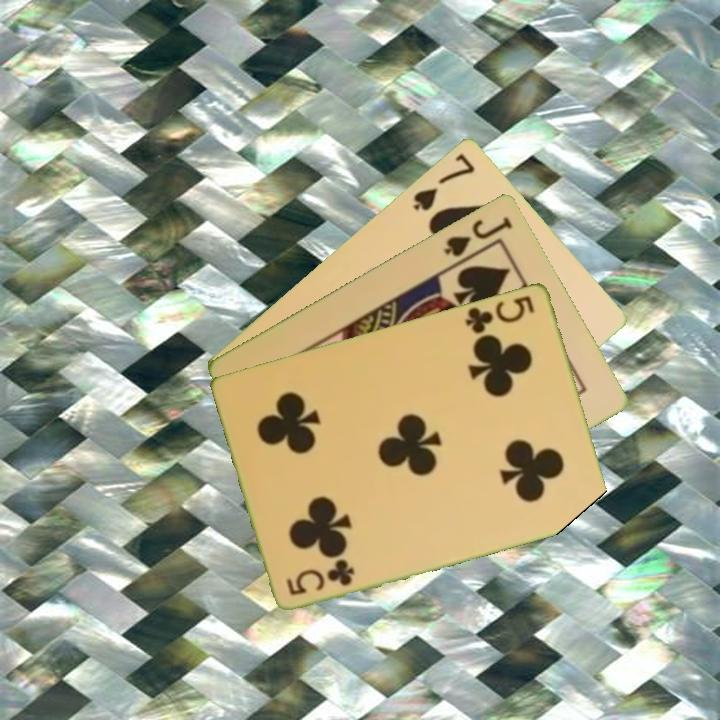5c: (462, 291, 538, 336), (283, 556, 358, 598)
7s: (410, 149, 478, 213)
Js: (440, 212, 515, 260)
